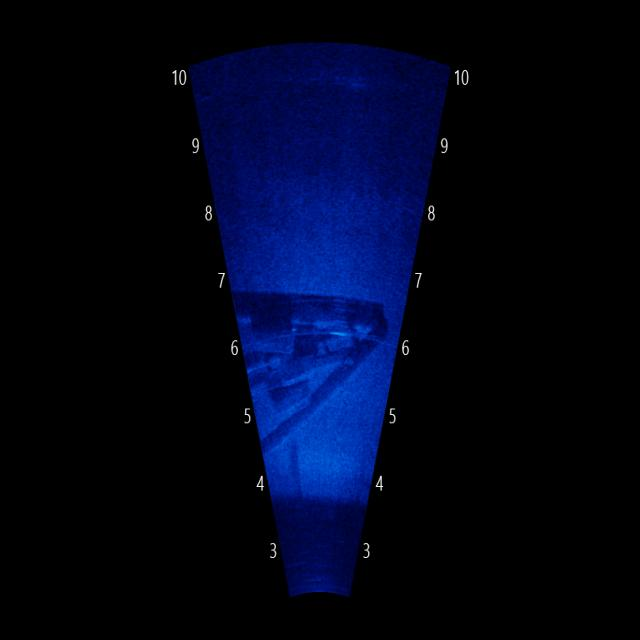triangle: (225, 267, 395, 463)
